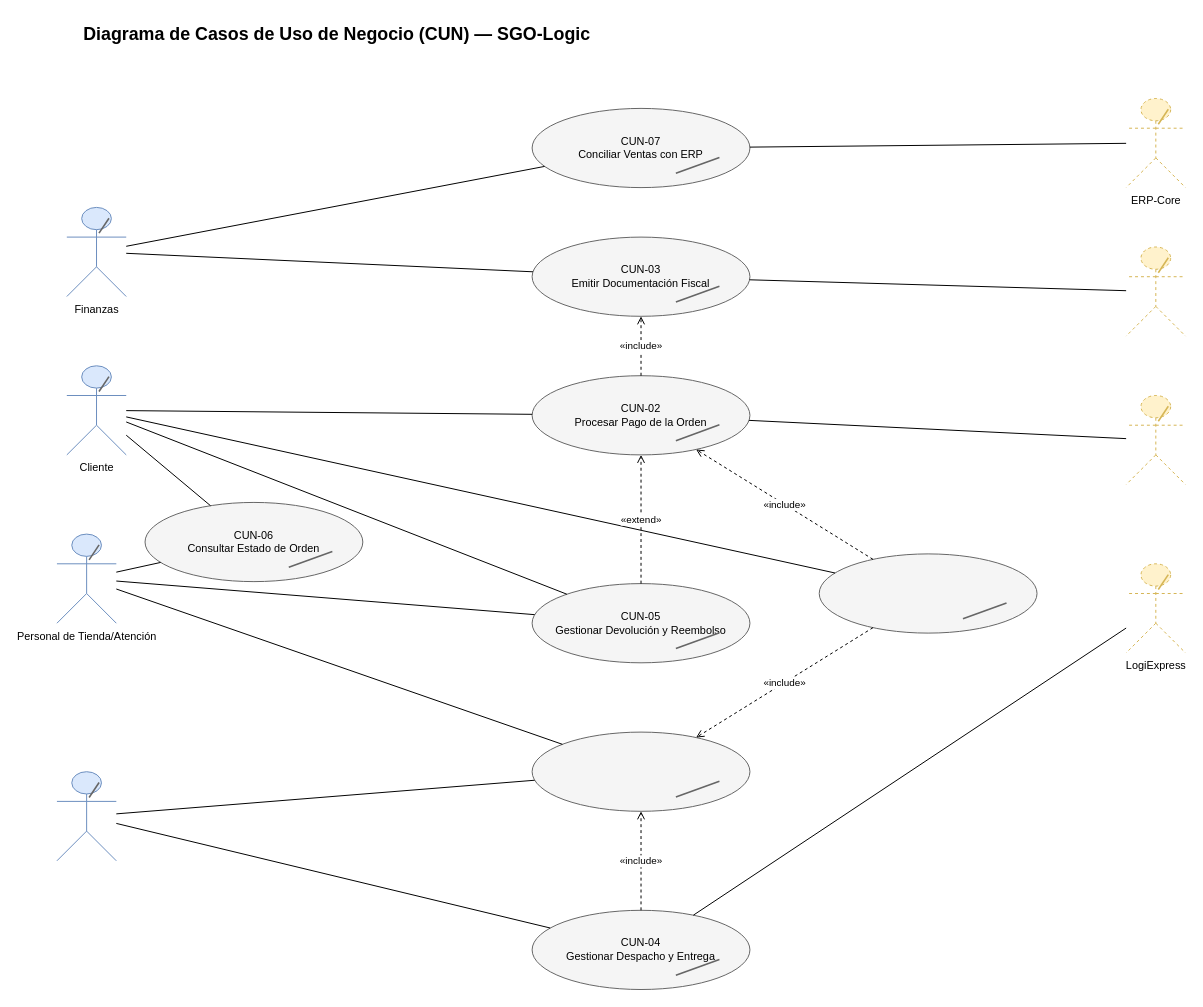
Image size: 1203x1007. Some labels were removed from this diagram. Here are the shapes that lost their labels. From the top down, the box of each, then its label:
(1125, 246, 1186, 336): SAT
(1125, 395, 1186, 485): PayKlik
(818, 553, 1037, 633): CUN-01 Realizar Compra Omnicanal
(531, 731, 750, 811): CUN-08 Gestionar Inventario Centralizado
(56, 771, 116, 861): Personal de Logística
